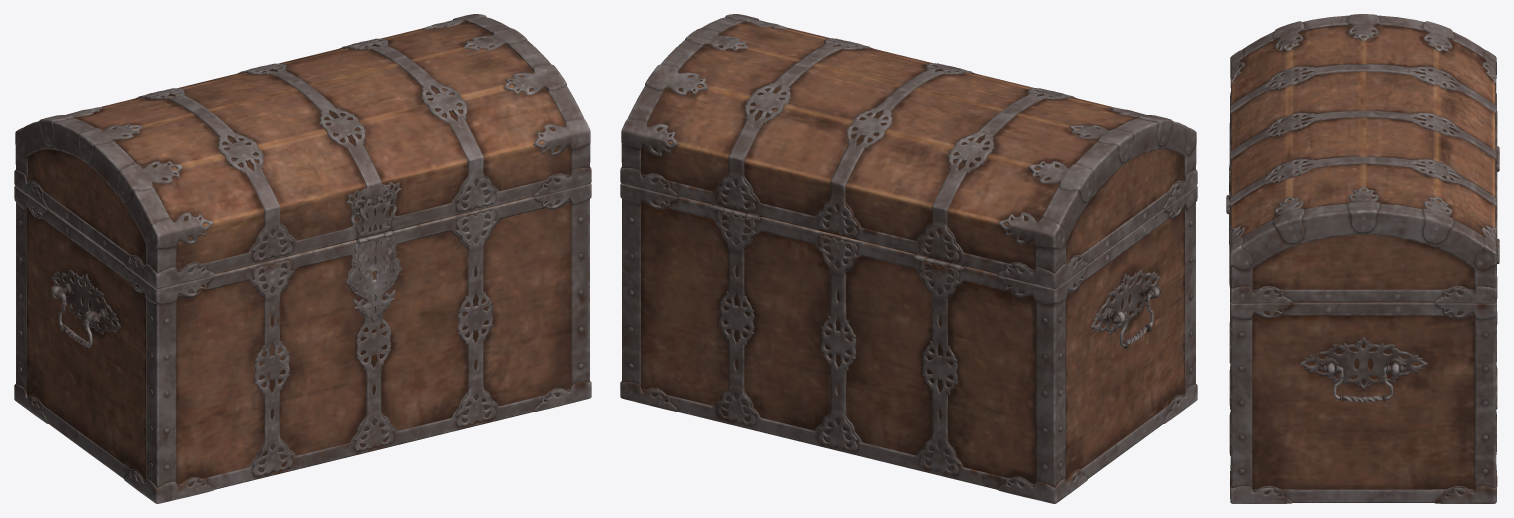
The model's file is forziere_ricco.glb.
3 views of the same model, side by side, from view 1: azimuth 30°, elevation 25°; view 2: azimuth 150°, elevation 25°; view 3: azimuth 270°, elevation 25° (orthographic). The views are drawn at different scales.
Visible parts, largest first — view 1: treasure_chest_bottom, chest_lid, treasure_chest_lock; view 2: treasure_chest_bottom, chest_lid; view 3: chest_lid, treasure_chest_bottom, treasure_chest_handle_right.
Part boxes in pixels (<box>): treasure_chest_bottom: <box>14,183,591,503</box>; chest_lid: <box>14,14,591,288</box>; treasure_chest_lock: <box>349,233,399,322</box>; treasure_chest_bottom: <box>620,183,1197,503</box>; chest_lid: <box>620,14,1197,288</box>; chest_lid: <box>1226,14,1499,303</box>; treasure_chest_bottom: <box>1229,152,1499,503</box>; treasure_chest_handle_right: <box>1320,365,1406,402</box>.
Bounding box in the file's own units: 1.53 × 0.9904 × 0.8366.
Materials: 1 (1 with a texture image).
